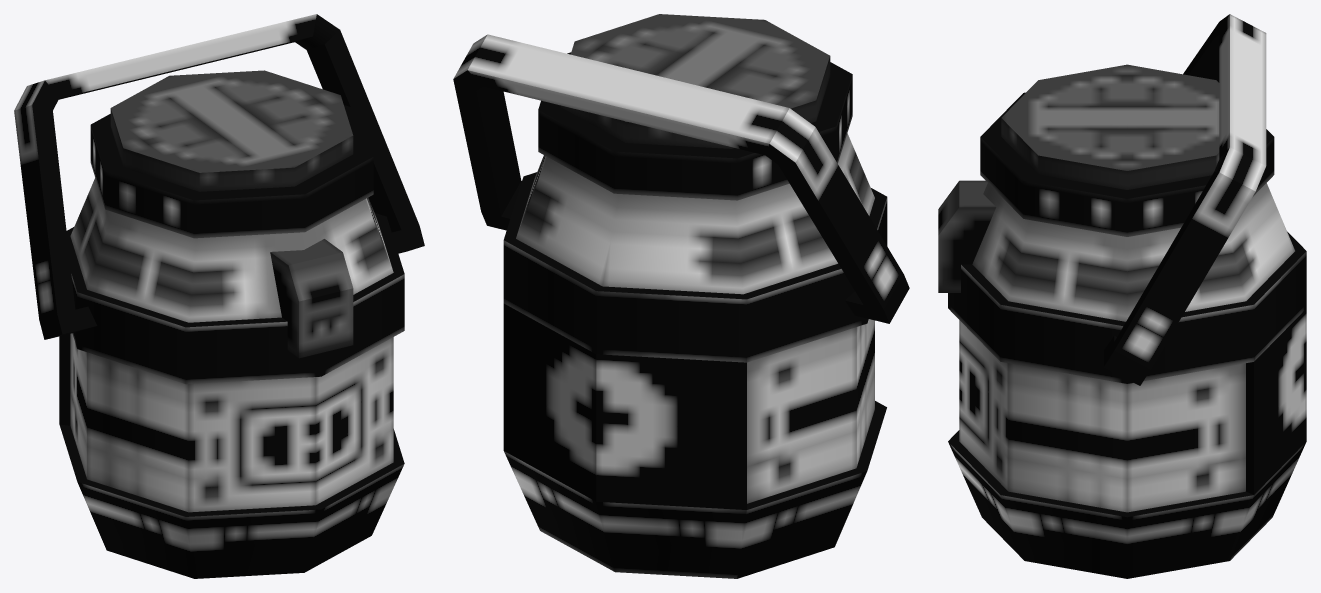
Rendered from Barrel_Assist.fbx.
The picture shows the model from 3 angles, left to right: view 1: azimuth 30°, elevation 25°; view 2: azimuth 150°, elevation 25°; view 3: azimuth 270°, elevation 25°; orthographic projection. The views are drawn at different scales.
Parts seen in each view (by area): view 1: Barrel_Assist; view 2: Barrel_Assist; view 3: Barrel_Assist.
Part boxes in pixels (box(x1,y1,x2,y2)): Barrel_Assist: box(14, 14, 424, 578); Barrel_Assist: box(453, 14, 909, 578); Barrel_Assist: box(938, 14, 1306, 578).
Bounding box in the file's own units: 10 × 11.48 × 8.77.
